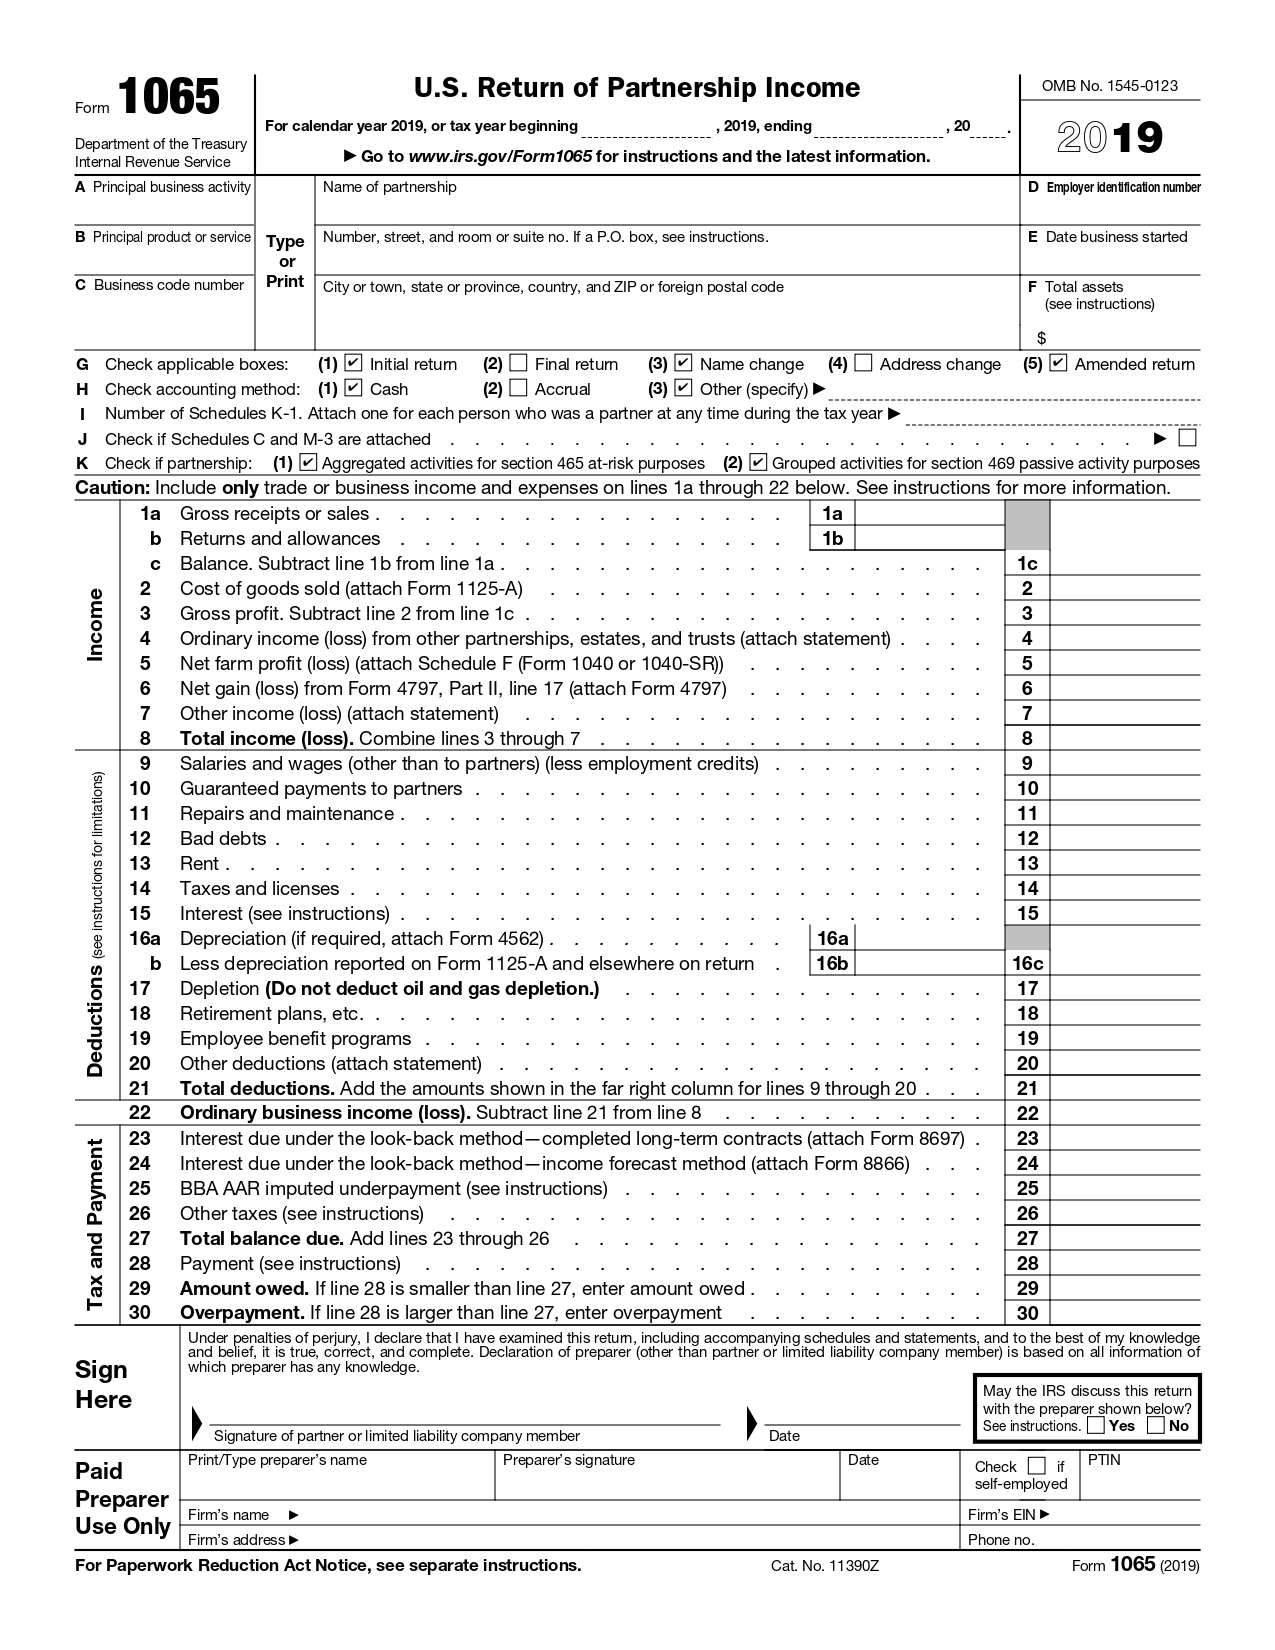filled checkbox: (300, 455, 320, 477), (675, 356, 696, 376), (1050, 356, 1071, 376), (346, 356, 366, 376), (346, 380, 366, 400), (676, 380, 695, 402), (751, 455, 770, 475)
unfilled checkbox: (510, 380, 530, 402), (510, 356, 530, 376), (856, 358, 876, 376), (1180, 433, 1200, 451), (1089, 1420, 1109, 1438), (1148, 1420, 1168, 1438), (1029, 1460, 1049, 1479)
